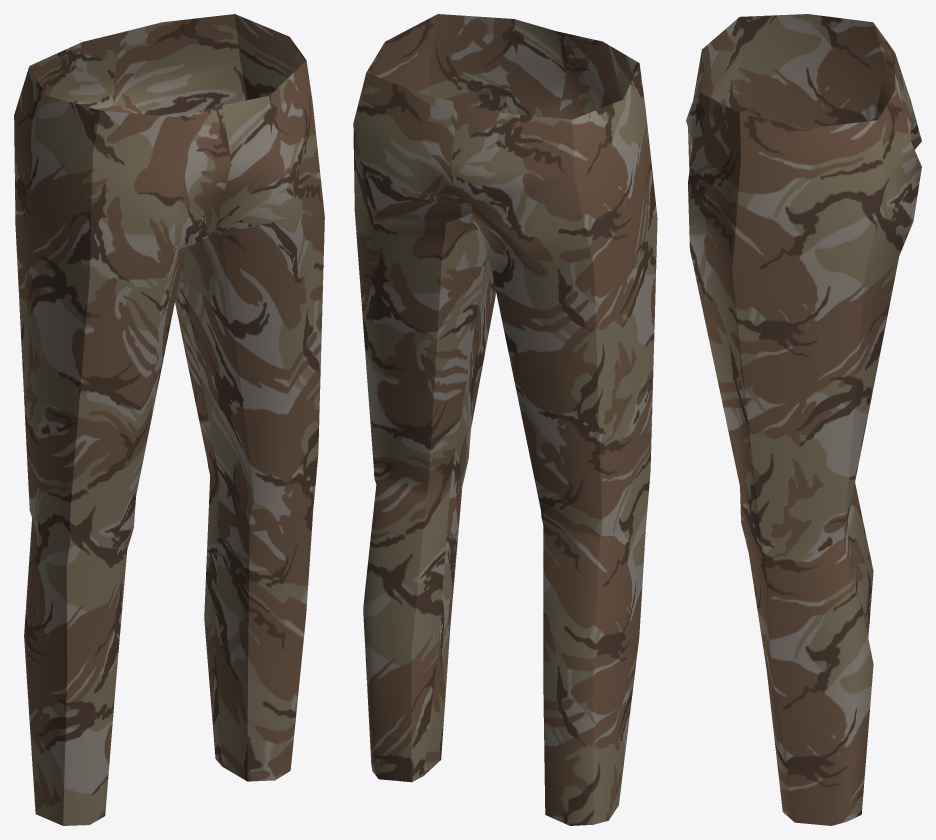
File: camoPants.fbx
The picture shows the model from 3 angles, left to right: view 1: azimuth 30°, elevation 25°; view 2: azimuth 150°, elevation 25°; view 3: azimuth 270°, elevation 25°; orthographic projection. The views are drawn at different scales.
Parts seen in each view (by area): view 1: plainPants; view 2: plainPants; view 3: plainPants.
Boxes of the visible parts, x1,y1,x2,y2 form: plainPants: [14, 14, 324, 825]; plainPants: [353, 14, 657, 825]; plainPants: [686, 14, 921, 825].
Size of the model in its own units: 37.04 by 96.24 by 29.26.
Materials: 1 (1 with a texture image).
